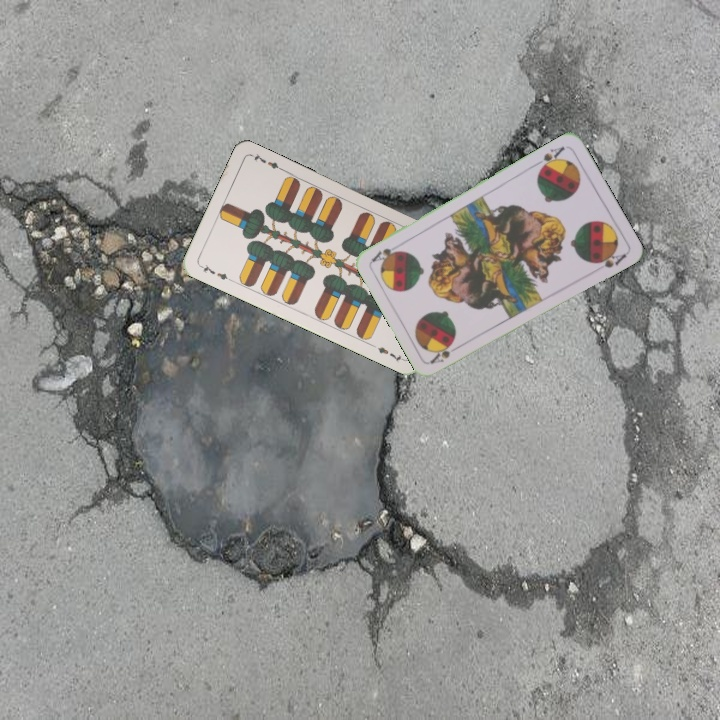E7: (196, 260, 234, 284)
SA: (531, 142, 567, 173), (426, 340, 464, 366)
